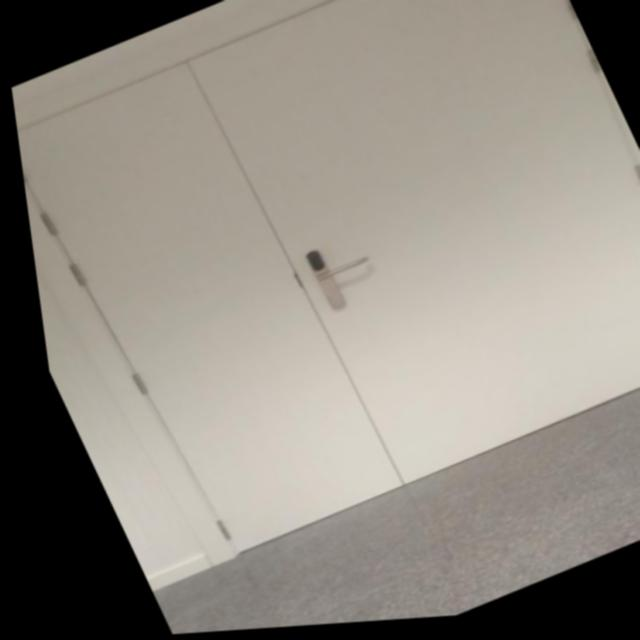door_handle: (299, 256, 368, 290)
